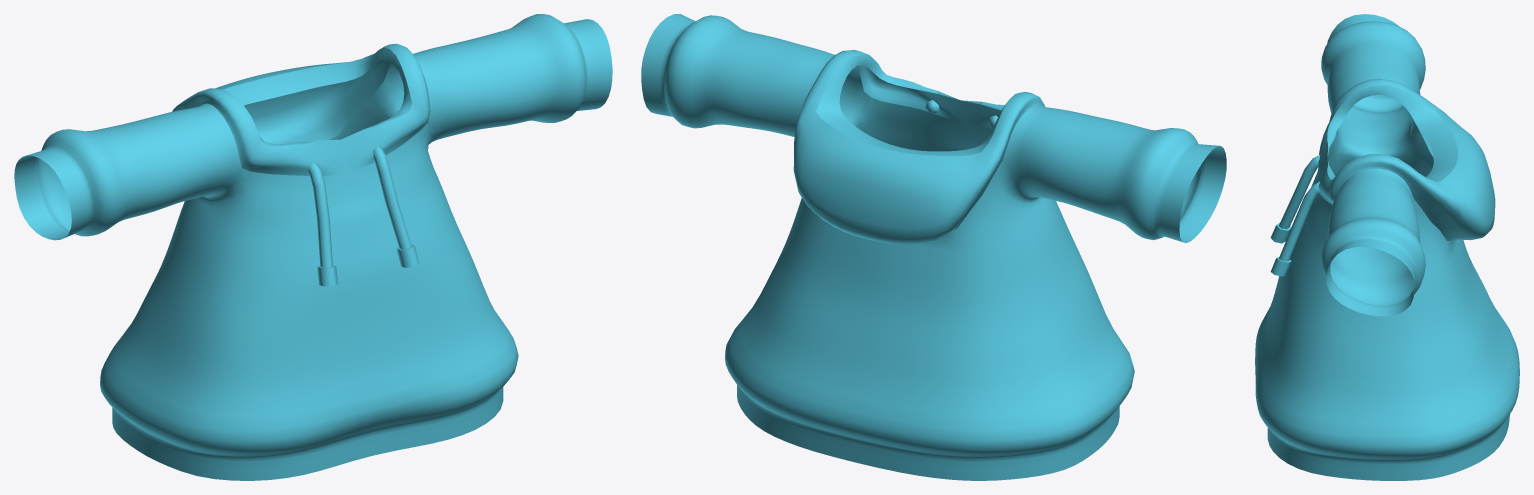
The model's file is Top_Hoodie_Hood_.fbx.
3 renders of one model, left to right at view 1: azimuth 30°, elevation 25°; view 2: azimuth 150°, elevation 25°; view 3: azimuth 270°, elevation 25°, orthographic. The views are drawn at different scales.
Parts seen in each view (by area): view 1: Hoodie_Hood, Hoodie_Strings; view 2: Hoodie_Hood; view 3: Hoodie_Hood, Hoodie_Strings.
Part boxes in pixels (x1,y1,x2,y2): Hoodie_Hood: (14, 14, 612, 480); Hoodie_Strings: (308, 146, 419, 286); Hoodie_Hood: (641, 14, 1226, 480); Hoodie_Hood: (1255, 14, 1519, 480); Hoodie_Strings: (1270, 155, 1320, 276).
Bounding box in the file's own units: 172 × 100 × 82.52.
